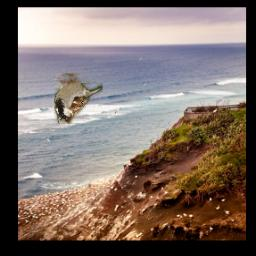Sparrow: (54, 73, 103, 124)
